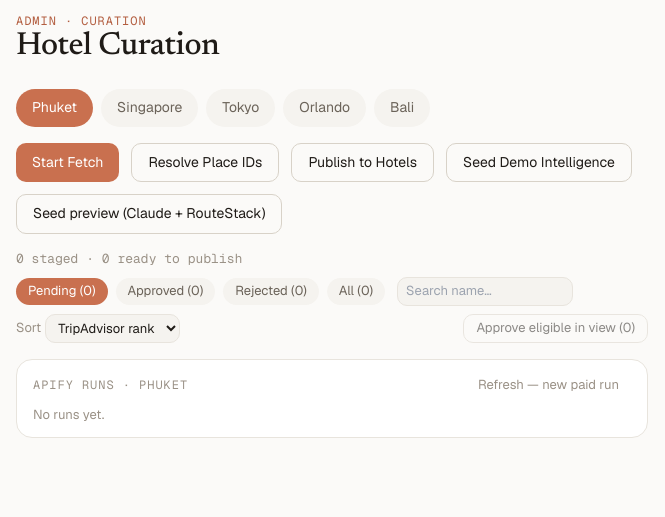
it: Admin Curation page › (g) publish surfaces WHICH hotels were skipped and why (not just a count)
This screenshot has width=665, height=517.
Click the button "Publish to Hotels" at (363, 162), box [291, 142, 434, 182]
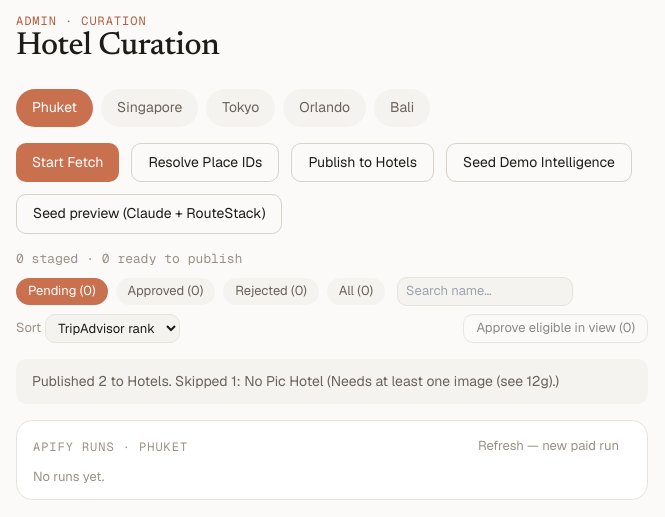
Expected: the text "Needs at least one image" is shown, [32, 372, 559, 390]
